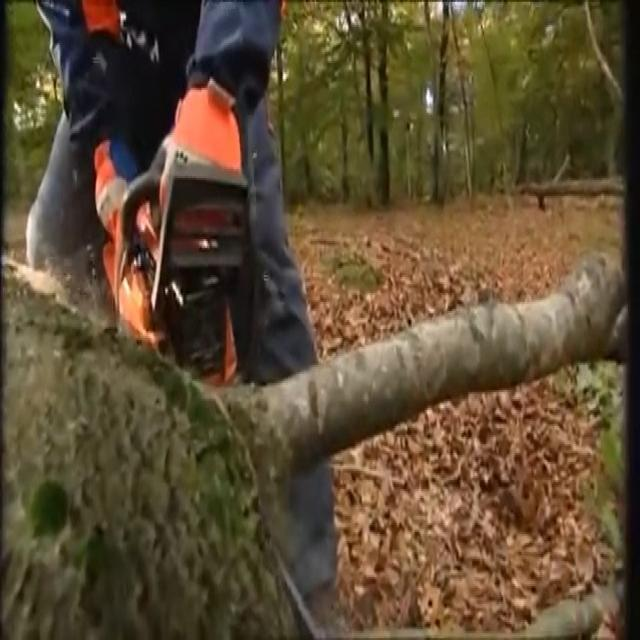Chainsaw: (85, 137, 378, 640)
